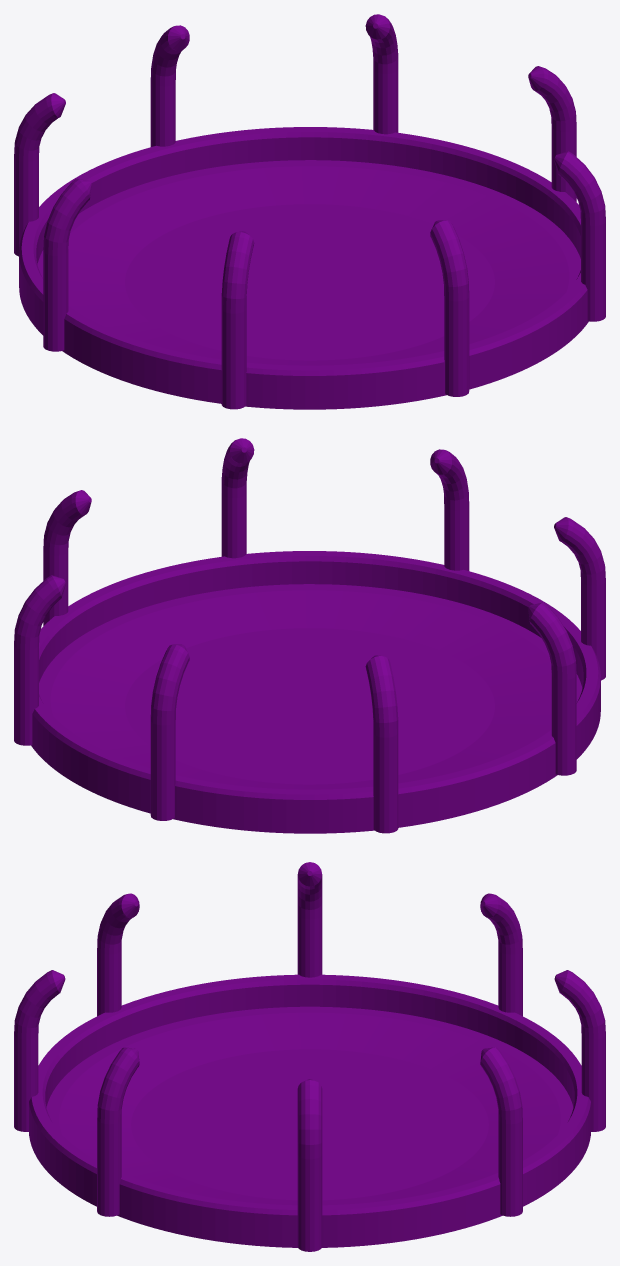
Rendered from Arena2.fbx.
3 views of the same model, one above another, from view 1: azimuth 30°, elevation 25°; view 2: azimuth 150°, elevation 25°; view 3: azimuth 270°, elevation 25° (orthographic). The views are drawn at different scales.
Visible parts, largest first — view 1: Arena2, Arena2Polls; view 2: Arena2, Arena2Polls; view 3: Arena2, Arena2Polls.
Part boxes in pixels (box(x1,y1,x2,y2)): Arena2: box(19, 127, 588, 409); Arena2Polls: box(14, 14, 605, 409); Arena2: box(31, 551, 600, 833); Arena2Polls: box(14, 438, 605, 833); Arena2: box(29, 974, 590, 1247); Arena2Polls: box(14, 862, 605, 1251).
Bounding box in the file's own units: 1159 × 342 × 1159.
